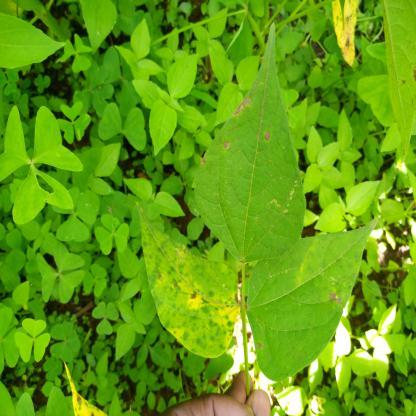Beans_Angular_LeafSpot: (184, 76, 304, 263), (247, 218, 375, 384), (145, 221, 240, 361)
